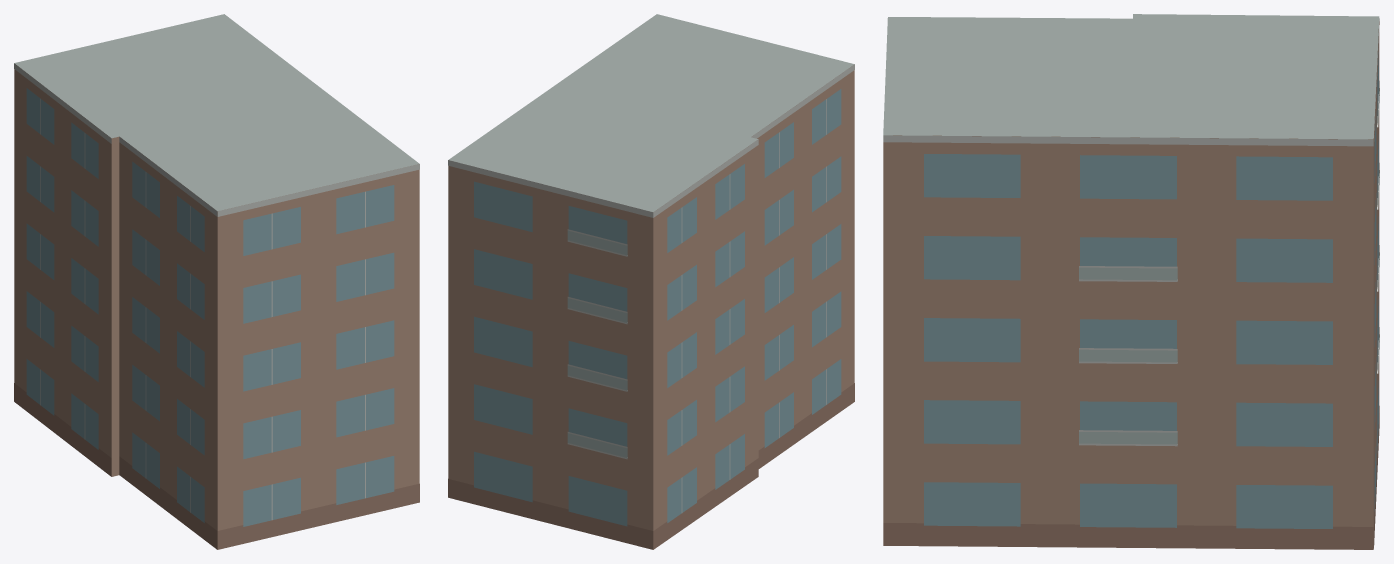
Rendered from survey-upis-32832587.glb.
3 views of the same model, side by side, from view 1: azimuth 30°, elevation 25°; view 2: azimuth 150°, elevation 25°; view 3: azimuth 270°, elevation 25° (orthographic). The views are drawn at different scales.
Visible parts, largest first — view 1: survey-upis-32832587.tmp; view 2: survey-upis-32832587.tmp; view 3: survey-upis-32832587.tmp.
Boxes of the visible parts, bbox=[...] form: survey-upis-32832587.tmp: bbox=[14, 14, 419, 549]; survey-upis-32832587.tmp: bbox=[448, 14, 854, 549]; survey-upis-32832587.tmp: bbox=[883, 14, 1379, 549].
Bounding box in the file's own units: 9.45 × 14.4 × 15.8.
